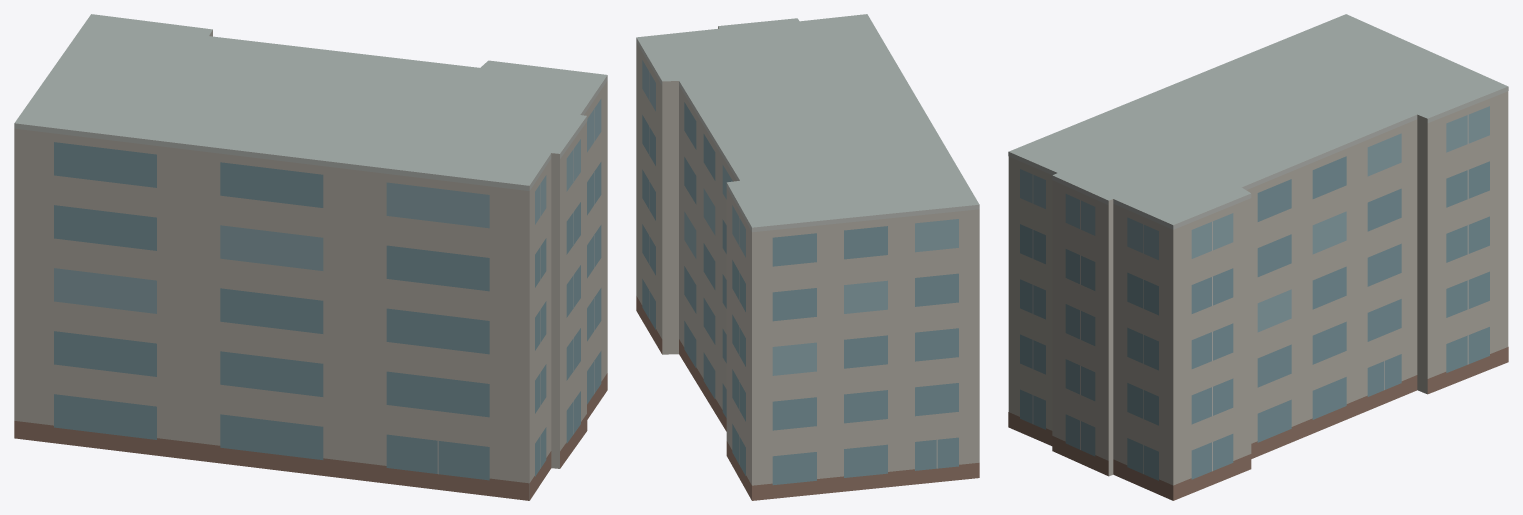
The model's file is survey-upis-32773229.glb.
3 renders of one model, left to right at view 1: azimuth 30°, elevation 25°; view 2: azimuth 150°, elevation 25°; view 3: azimuth 270°, elevation 25°, orthographic. The views are drawn at different scales.
Parts seen in each view (by area): view 1: survey-upis-32773229.tmp; view 2: survey-upis-32773229.tmp; view 3: survey-upis-32773229.tmp.
Boxes of the visible parts, box(x1,y1,x2,y2) form: survey-upis-32773229.tmp: box(14, 14, 607, 500); survey-upis-32773229.tmp: box(636, 14, 979, 500); survey-upis-32773229.tmp: box(1008, 14, 1508, 500).
Size of the model in its own units: 23.66 by 14.4 by 23.67.
